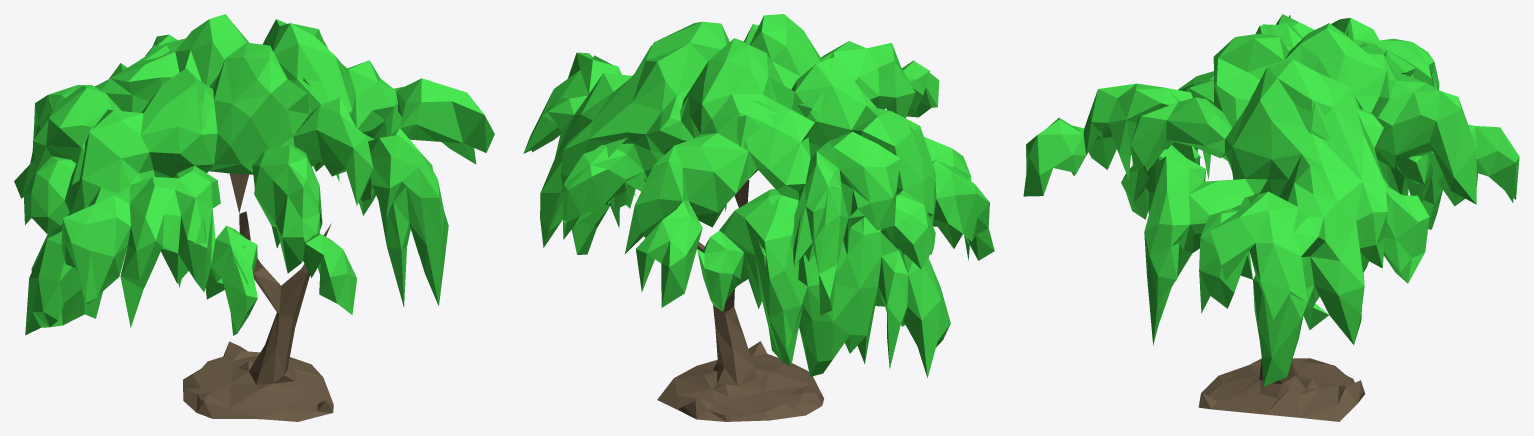
File: Tree_6-col.glb
3 views of the same model, side by side, from view 1: azimuth 30°, elevation 25°; view 2: azimuth 150°, elevation 25°; view 3: azimuth 270°, elevation 25° (orthographic). The views are drawn at different scales.
Parts seen in each view (by area): view 1: geometry_0.006; view 2: geometry_0.006; view 3: geometry_0.006.
Boxes of the visible parts, left/top/right/bottom form: geometry_0.006: left=14, top=14, right=494, bottom=421; geometry_0.006: left=523, top=14, right=994, bottom=421; geometry_0.006: left=1023, top=14, right=1519, bottom=421.
Size of the model in its own units: 1.96 by 1.61 by 2.
